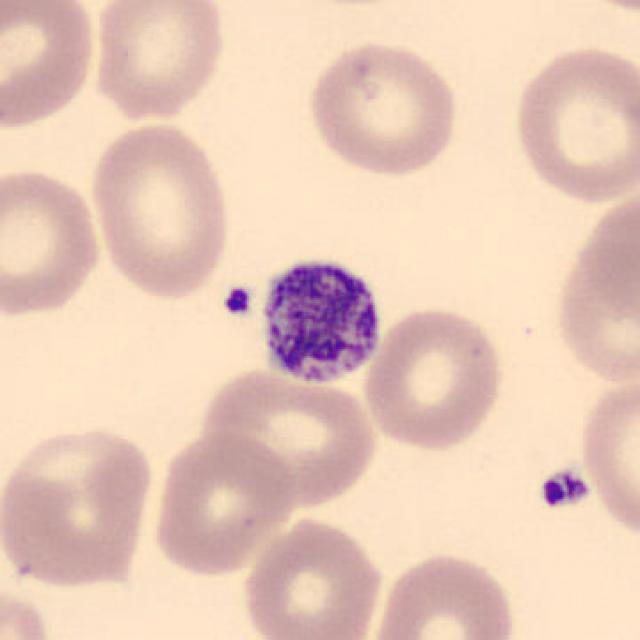Platelets: (250, 247, 388, 391), (535, 466, 592, 513), (218, 282, 258, 323)
RBC: (86, 116, 237, 304), (0, 422, 158, 592), (198, 366, 380, 509), (148, 428, 298, 580), (359, 302, 509, 453), (302, 37, 462, 178), (507, 41, 638, 208), (238, 513, 386, 640), (549, 185, 640, 390), (87, 0, 229, 123), (0, 164, 105, 321), (368, 548, 519, 640), (0, 0, 101, 134), (574, 369, 638, 543), (0, 580, 57, 640), (558, 0, 640, 16)
